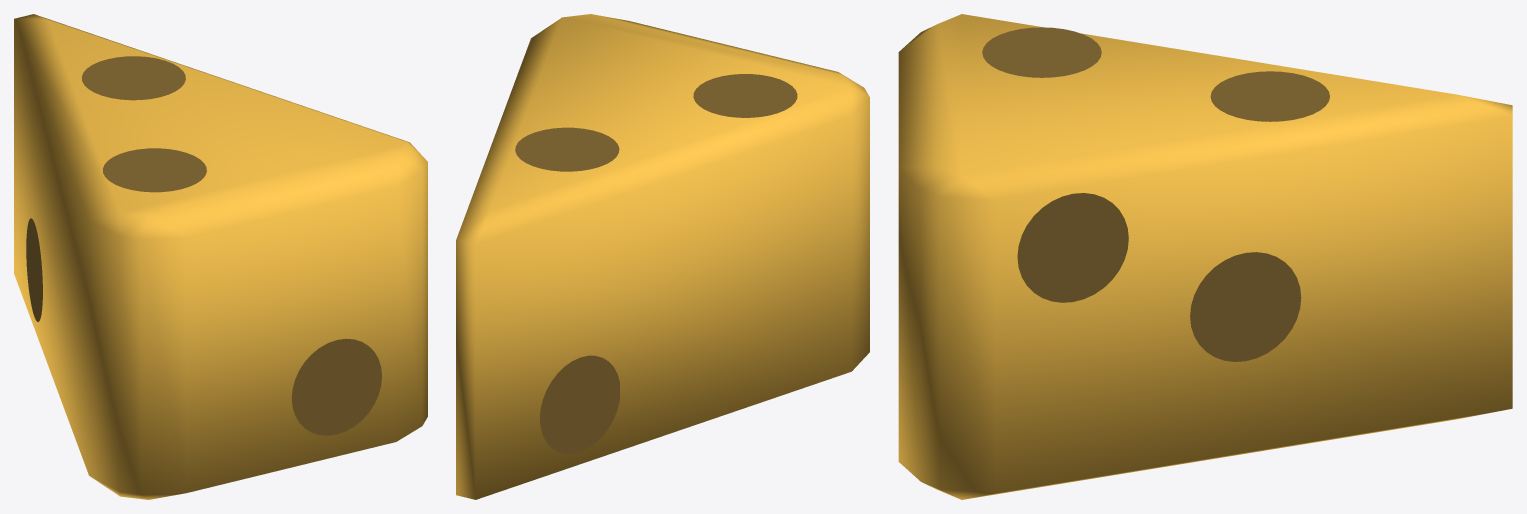
Rendered from CheeseRaw.glb.
The picture shows the model from 3 angles, left to right: view 1: azimuth 30°, elevation 25°; view 2: azimuth 150°, elevation 25°; view 3: azimuth 270°, elevation 25°; orthographic projection. The views are drawn at different scales.
Parts seen in each view (by area): view 1: Cylinder.005; view 2: Cylinder.005; view 3: Cylinder.005.
Part boxes in pixels (<box>): Cylinder.005: <box>14,14,427,499</box>; Cylinder.005: <box>456,14,869,499</box>; Cylinder.005: <box>898,14,1512,499</box>.
Bounding box in the file's own units: 0.3897 × 0.3293 × 0.5636.
